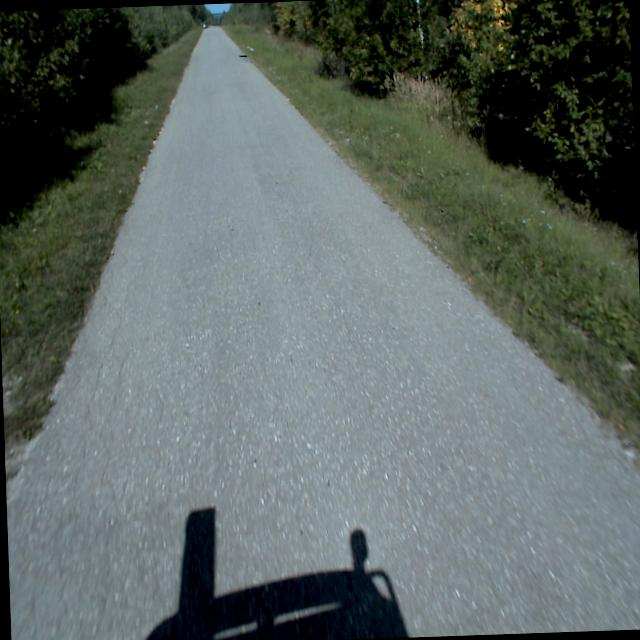road: (6, 26, 640, 640)
